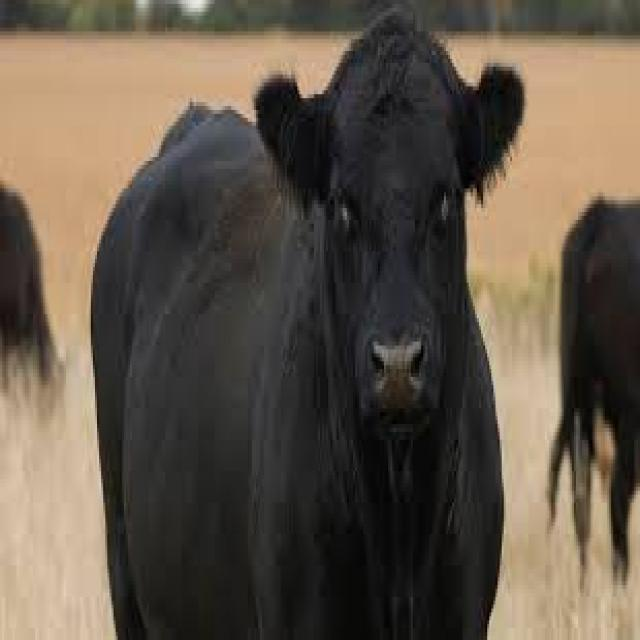cowFace: (235, 24, 533, 471)
